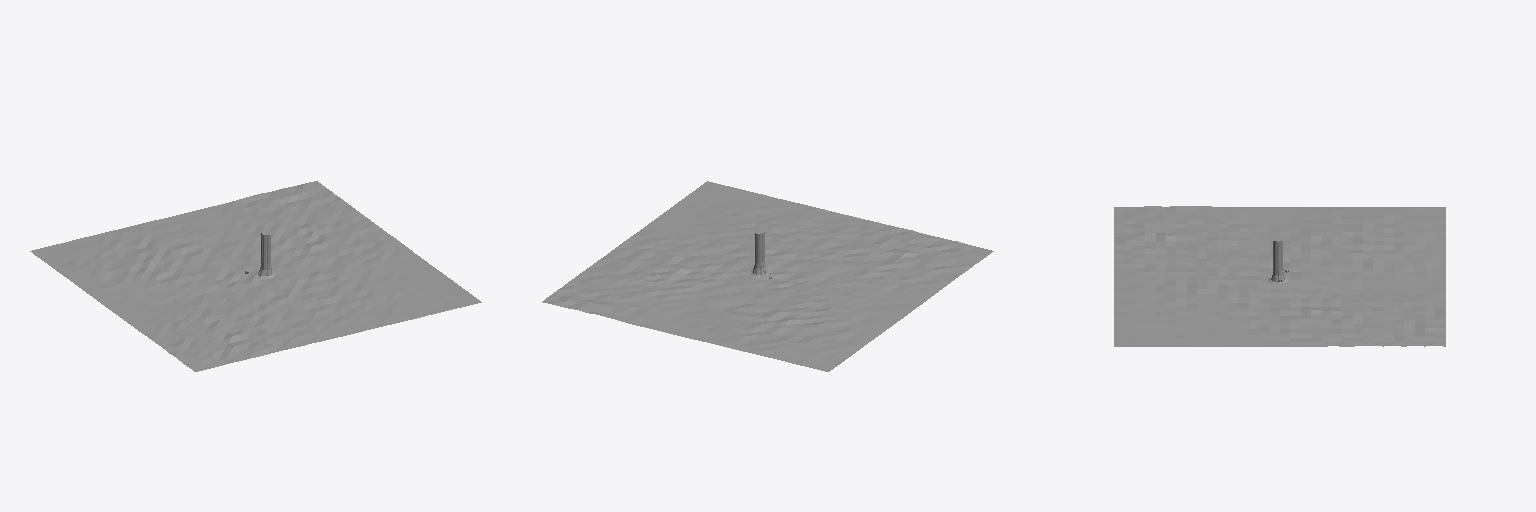
The model's file is KivyForest.obj.
The picture shows the model from 3 angles: view 1: azimuth 30°, elevation 25°; view 2: azimuth 150°, elevation 25°; view 3: azimuth 270°, elevation 25°; orthographic projection.
Visible parts, largest first — view 1: Ground_Cube; view 2: Ground_Cube; view 3: Ground_Cube.
Part boxes in pixels (bbox=[...]): Ground_Cube: bbox=[30, 181, 481, 371]; Ground_Cube: bbox=[542, 181, 993, 371]; Ground_Cube: bbox=[1114, 206, 1445, 346].
Size of the model in its own units: 16 by 2.25 by 16.